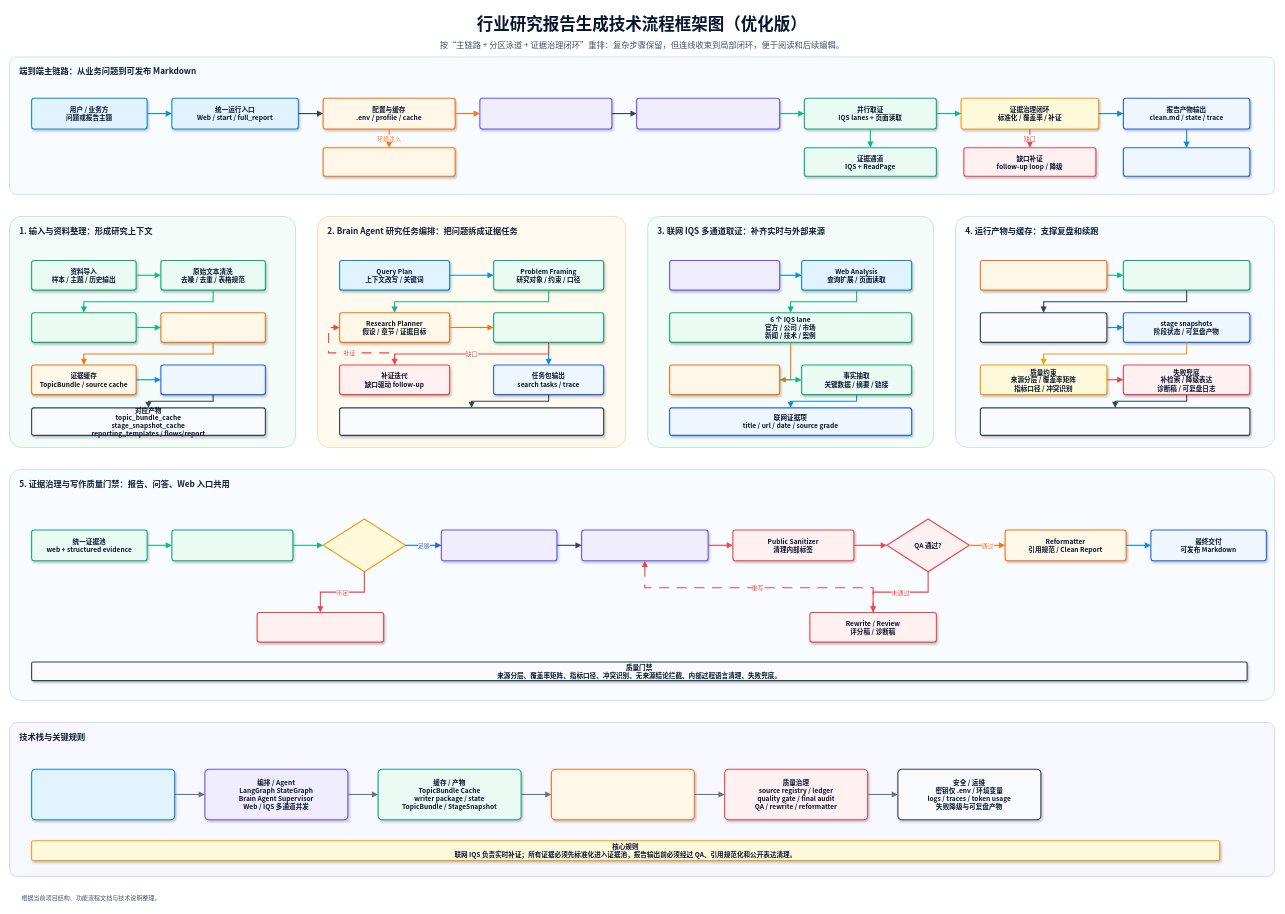
Image size: 1285x914. Some labels were removed from this diagram. Here are the shapes that lost their labels. From the top down, the centre of each, then its label:
At (546,114): "Brain Agent 主图 LangGraph Supervisor".
At (708,114): "研究规划与路由 假设 / 章节 / search tasks".
At (389,162): "统一配置 模型 / IQS / QA / 输出".
At (1186,162): "阶段快照 writer_package / logs".
At (725,275): "搜索任务 章节 / 假设 / 证据目标".
At (1043,275): "环境与密钥注入 .env / IQS Key / 服务地址".
At (1186,275): "网页结果先入证据池 不直接写入最终报告".
At (84,328): "结构识别 章节 / 表格 / 指标线索".
At (213,328): "任务上下文 对象 / 行业 / 输出约束".
At (549,328): "搜索任务 来源类型 / 关键词 / 时间".
At (1043,328): "source registry / ledger 来源登记与证据流水".
At (213,380): "中间产物 state / package / snapshots".
At (725,380): "来源分层 权威优先 / 去重过滤".
At (472,422): "对应模块 brain_agent / research_planner problem_framing_agent dynamic_search_schema".
At (1115,422): "核心约束 Writer 只消费结构化证据包；证据不足时先补检索、降级表达或输出诊断稿，不凭空补事实。".
At (232,546): "Evidence Binder 章节 / 假设 / 来源绑定".
At (364,545): "覆盖足够?".
At (499,546): "Analysis Agent 洞察 / 冲突 / 边界".
At (645,546): "Writer Pipeline Pre-layout / Table / Claim".
At (320,627): "follow-up 查询 回到 IQS / 页面读取补证".
At (103,795): "启动 / 服务 PowerShell 脚本 FastAPI report_web_app 后台 ReportJob".
At (623,795): "模型 / 联网检索 LLM profiles IQS search / ReadPage rerank / fact extraction".
